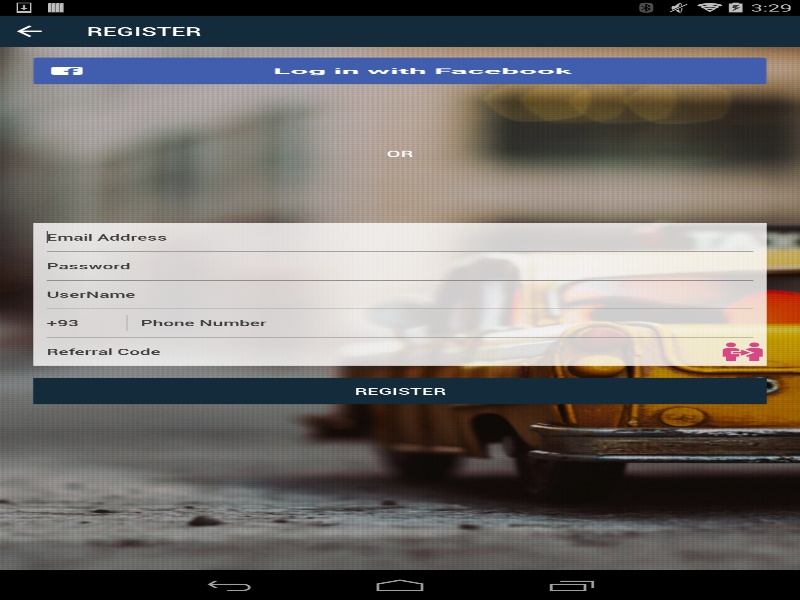Button: (33, 57, 766, 84), (33, 378, 766, 404)
Input: (33, 251, 766, 280), (33, 223, 766, 251), (33, 280, 766, 308), (33, 337, 717, 365), (127, 308, 766, 337)
